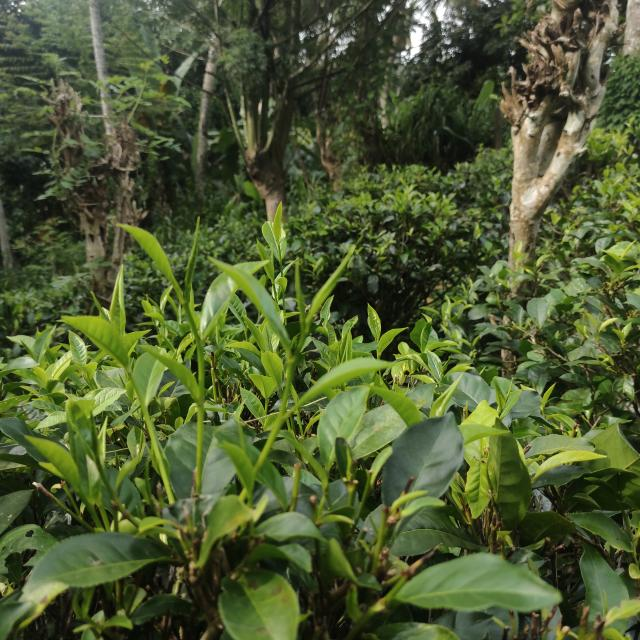unopened_leaf: (173, 212, 208, 301), (287, 251, 308, 333), (85, 284, 115, 325), (85, 406, 104, 456)
